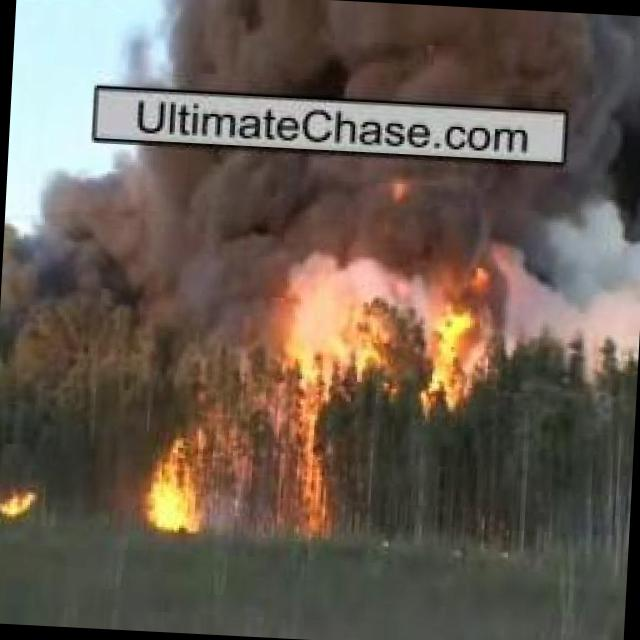Fire: (280, 336, 354, 534), (418, 272, 482, 412), (138, 429, 214, 521), (0, 481, 38, 521)
Smoke: (11, 141, 640, 270), (166, 0, 640, 110), (22, 256, 328, 324)
